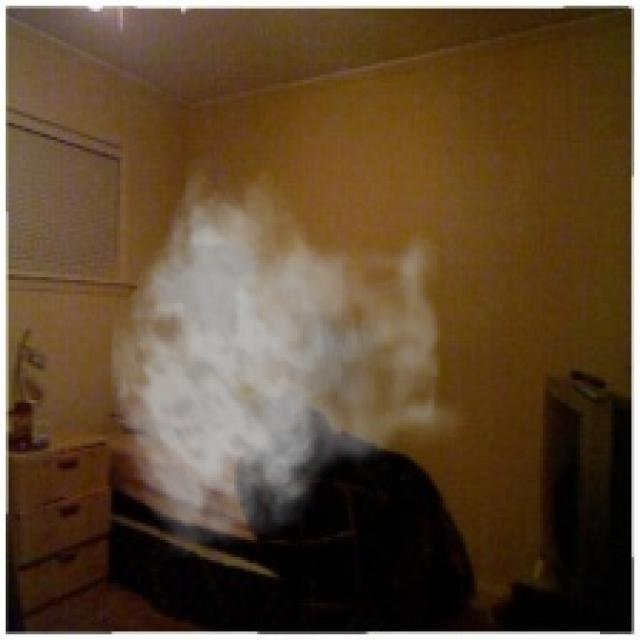Smoke: (108, 160, 474, 557)
